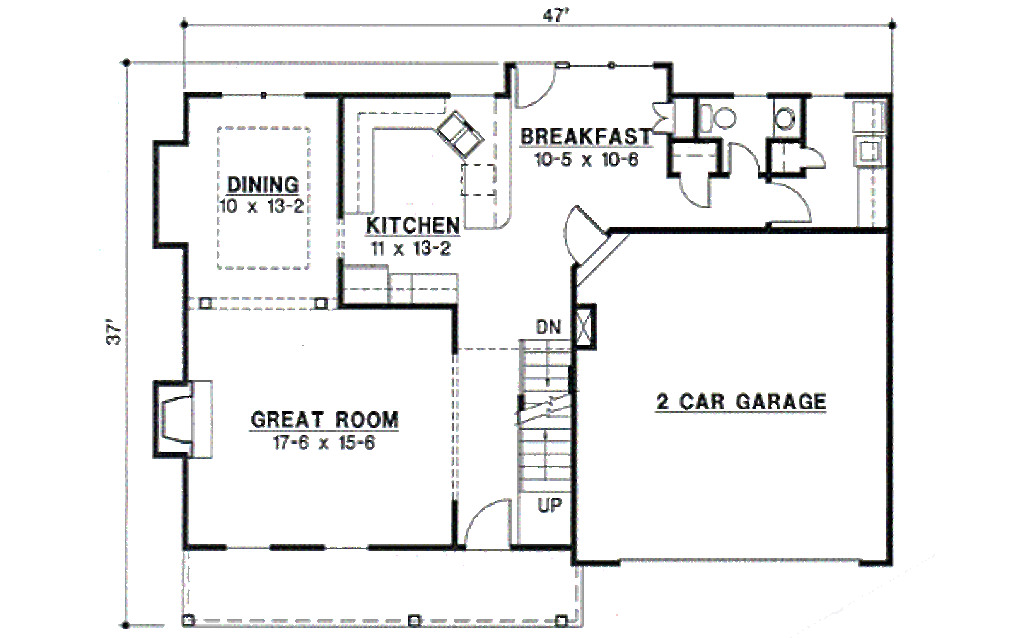door: (559, 202, 613, 265), (463, 499, 516, 553), (767, 177, 816, 229), (512, 60, 557, 111), (725, 138, 763, 177), (678, 172, 710, 209), (648, 101, 676, 137), (801, 144, 827, 174)
large_sink: (696, 99, 737, 136)
small_sink: (772, 97, 808, 141)
stairs: (516, 318, 578, 549)
twin_sink: (436, 107, 484, 158)
windows: (219, 86, 309, 104)
